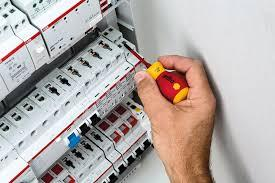screwdriver: (122, 42, 189, 102)
